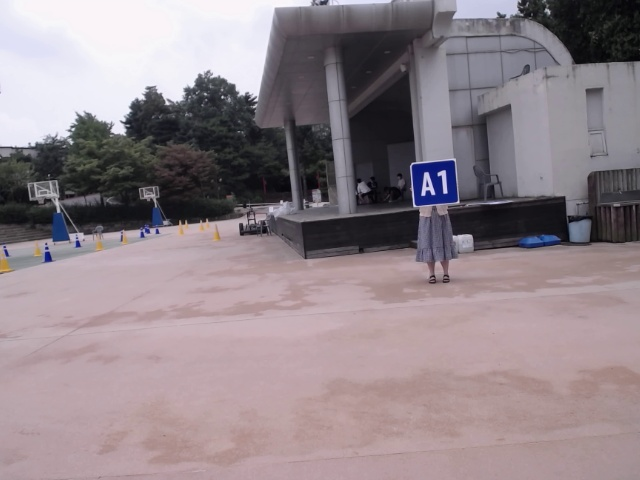delivery_a1: (410, 160, 459, 208)
